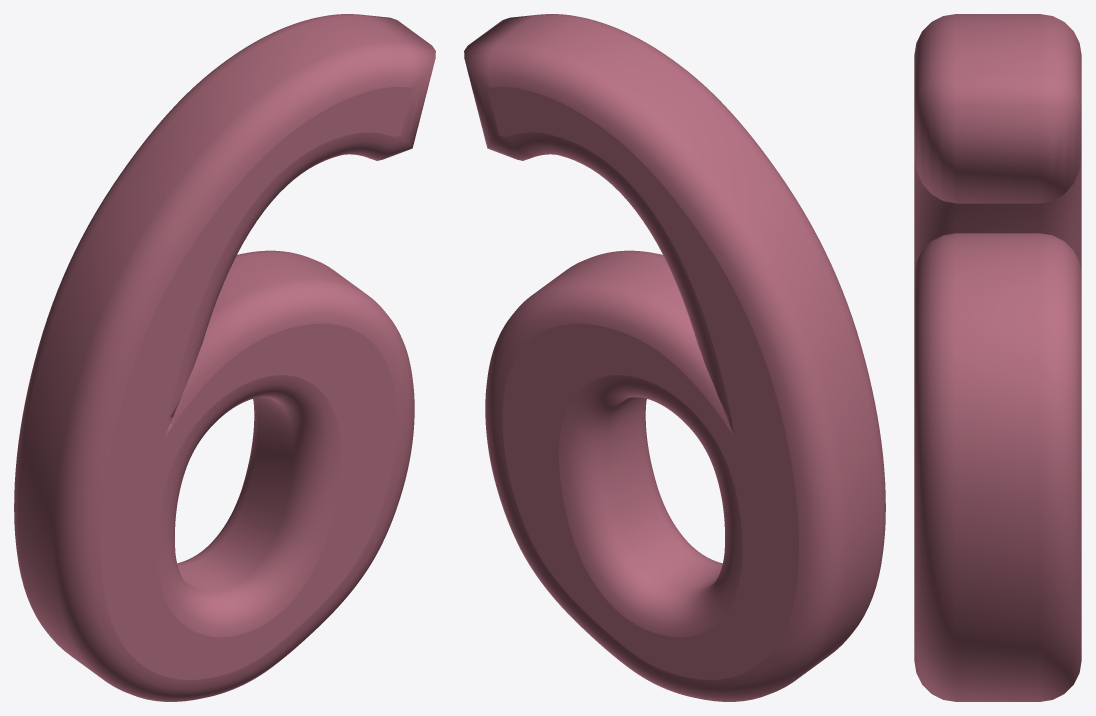
3 renders of one model, left to right at view 1: azimuth 30°, elevation 25°; view 2: azimuth 150°, elevation 25°; view 3: azimuth 270°, elevation 25°, orthographic. The views are drawn at different scales.
Parts seen in each view (by area): view 1: テキスト.006; view 2: テキスト.006; view 3: テキスト.006.
Boxes of the visible parts, bbox=[...] form: テキスト.006: bbox=[14, 14, 435, 701]; テキスト.006: bbox=[464, 14, 885, 701]; テキスト.006: bbox=[914, 14, 1081, 701].
Bounding box in the file's own units: 0.3768 × 0.5809 × 0.12.
